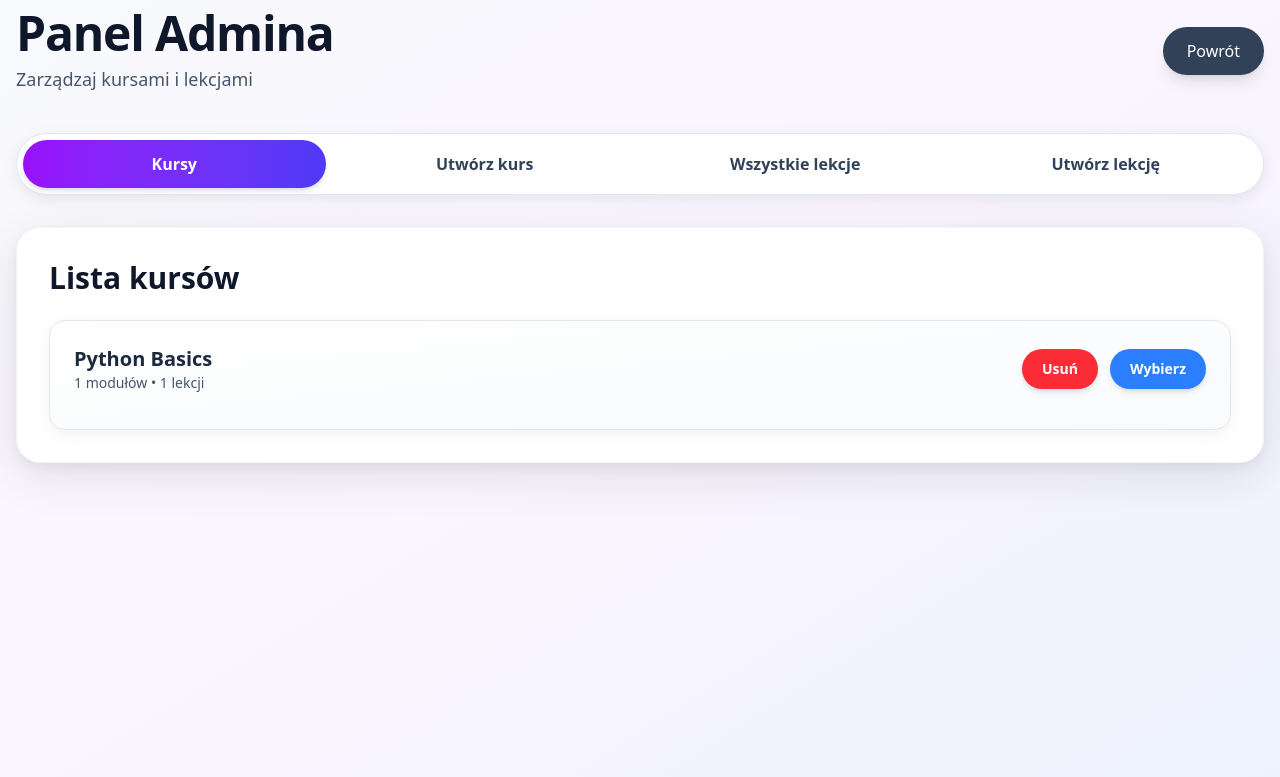
Test: AdminPanel › Module Creation › shows module form after creating a course
This screenshot has width=1280, height=777.
Check: the heading "Python Basics" is shown, box left=74, top=345, right=212, bottom=373
Step 1. Click the button "Utwórz kurs" → (485, 164), box left=334, top=140, right=636, bottom=188
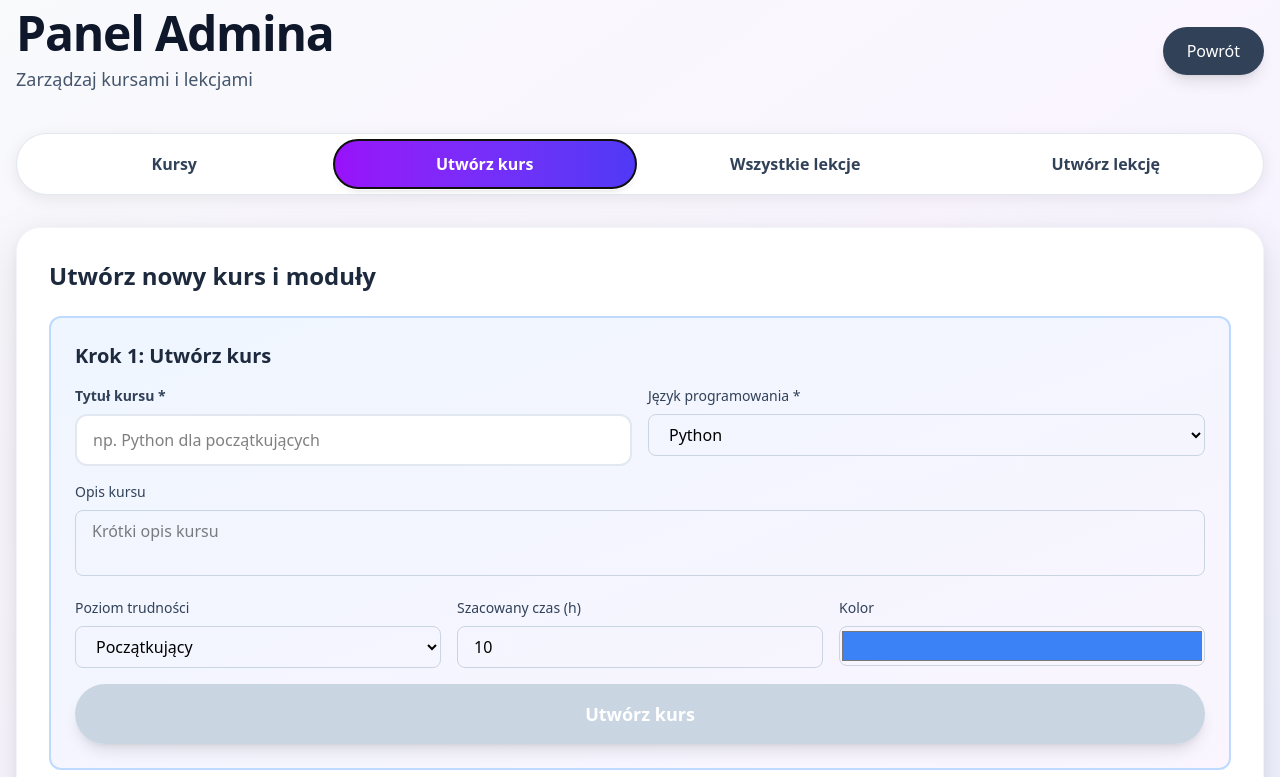
Check: the heading "Utwórz nowy kurs i moduły" is shown, box left=49, top=259, right=376, bottom=292
Step 2. Type "New Course" into the field with placeholder "np. Python dla początkujących" → (354, 440), box left=75, top=414, right=632, bottom=466
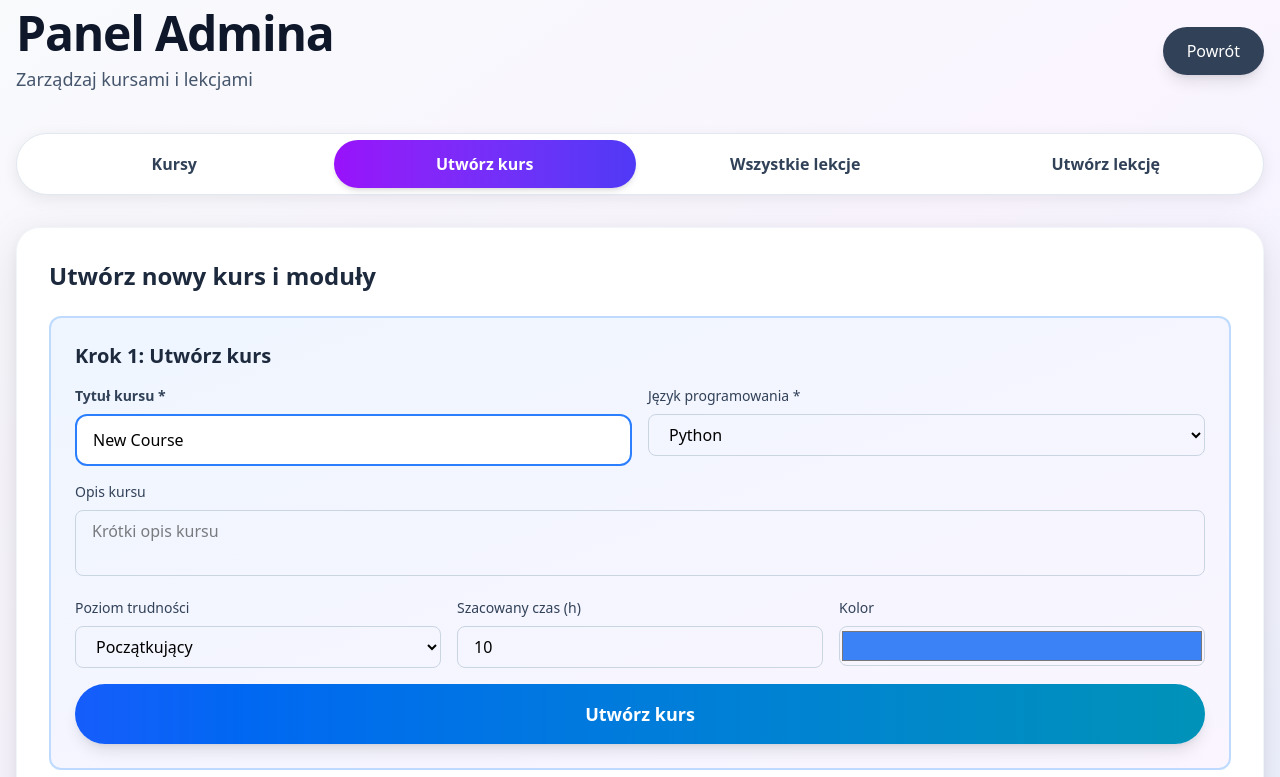
Step 3. Click the button "Utwórz kurs" below "Poziom trudności" → (640, 714), box left=75, top=684, right=1205, bottom=744
(page scrolled)
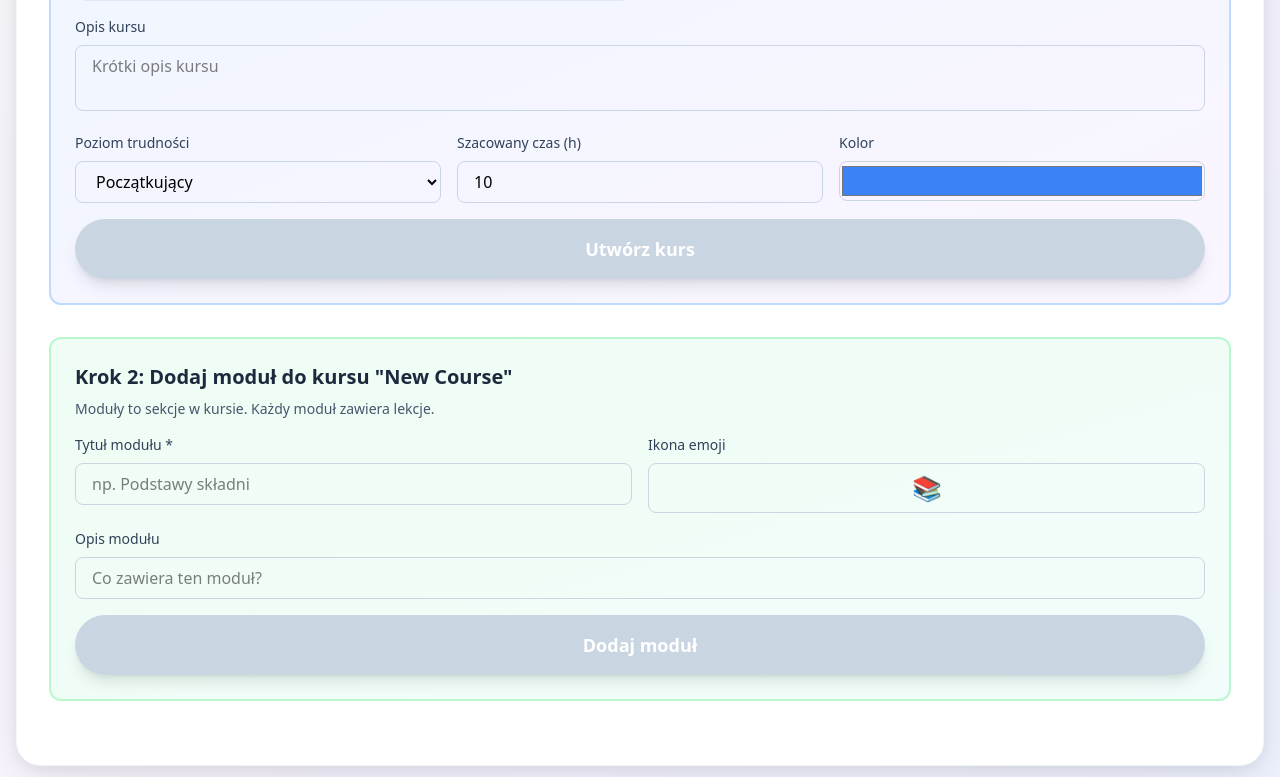
Check: the heading "Krok 2: Dodaj moduł do kursu \"New Course\"" is shown, box left=75, top=363, right=513, bottom=390
